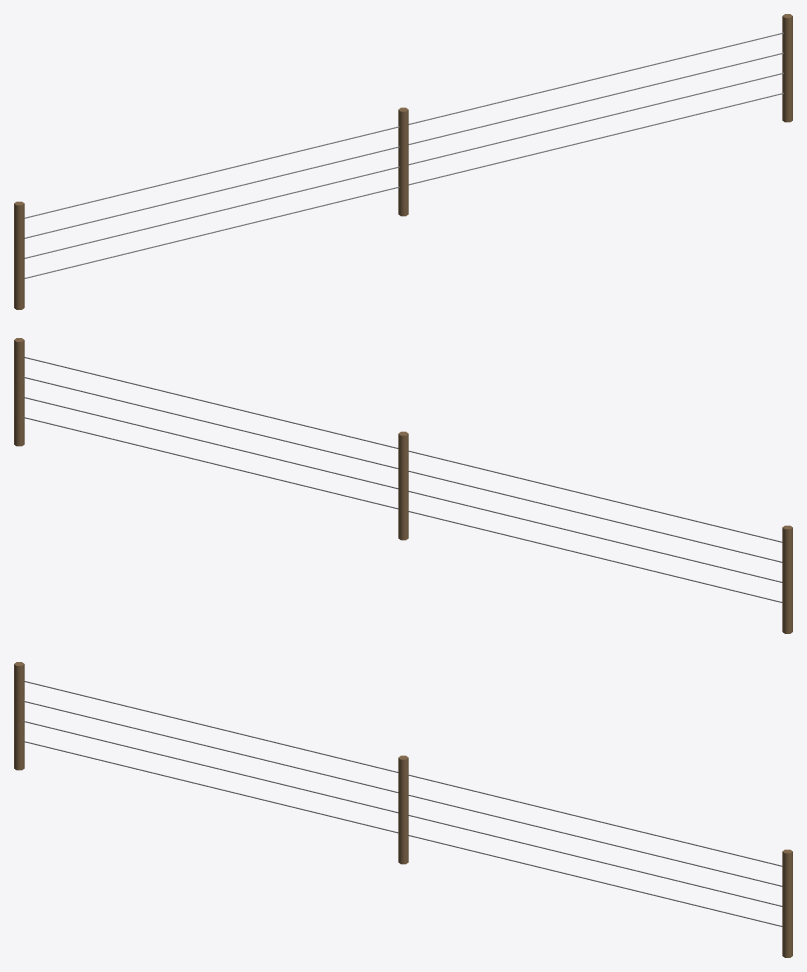
Rendered from tf_farm_wire_fence_10m.glb.
The picture shows the model from 3 angles, top to bottom: view 1: azimuth 30°, elevation 25°; view 2: azimuth 150°, elevation 25°; view 3: azimuth 330°, elevation 25°; orthographic projection.
Visible parts, largest first — view 1: tf_farm_wire_fence_10m; view 2: tf_farm_wire_fence_10m; view 3: tf_farm_wire_fence_10m.
Part boxes in pixels (x1,y1,x2,y2): tf_farm_wire_fence_10m: (14,14,792,309); tf_farm_wire_fence_10m: (14,338,792,633); tf_farm_wire_fence_10m: (14,662,792,957).
Size of what is drawn, in the model's own units: 10.1 by 1.3 by 0.12.
